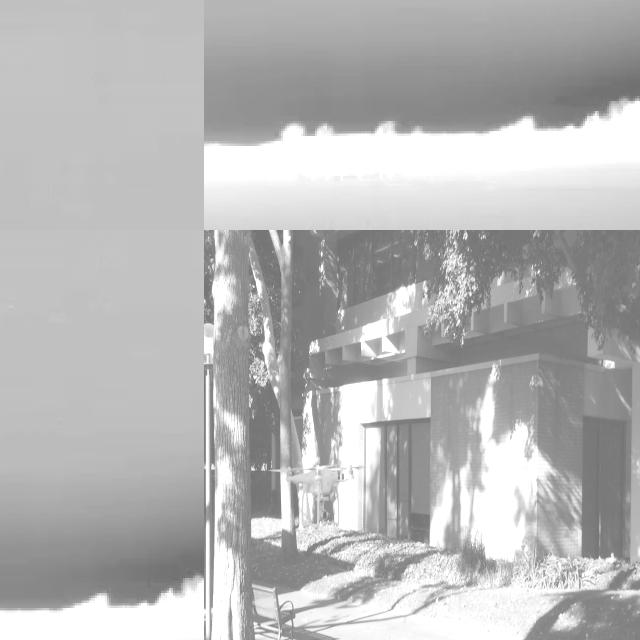drone: (284, 458, 354, 525)
